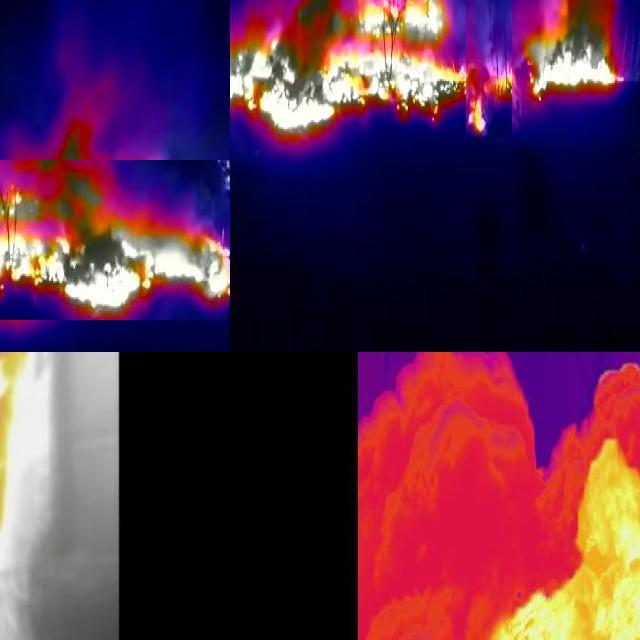fire: (472, 353, 640, 640), (1, 161, 231, 321), (231, 1, 467, 138), (525, 1, 619, 107), (467, 1, 513, 139)
